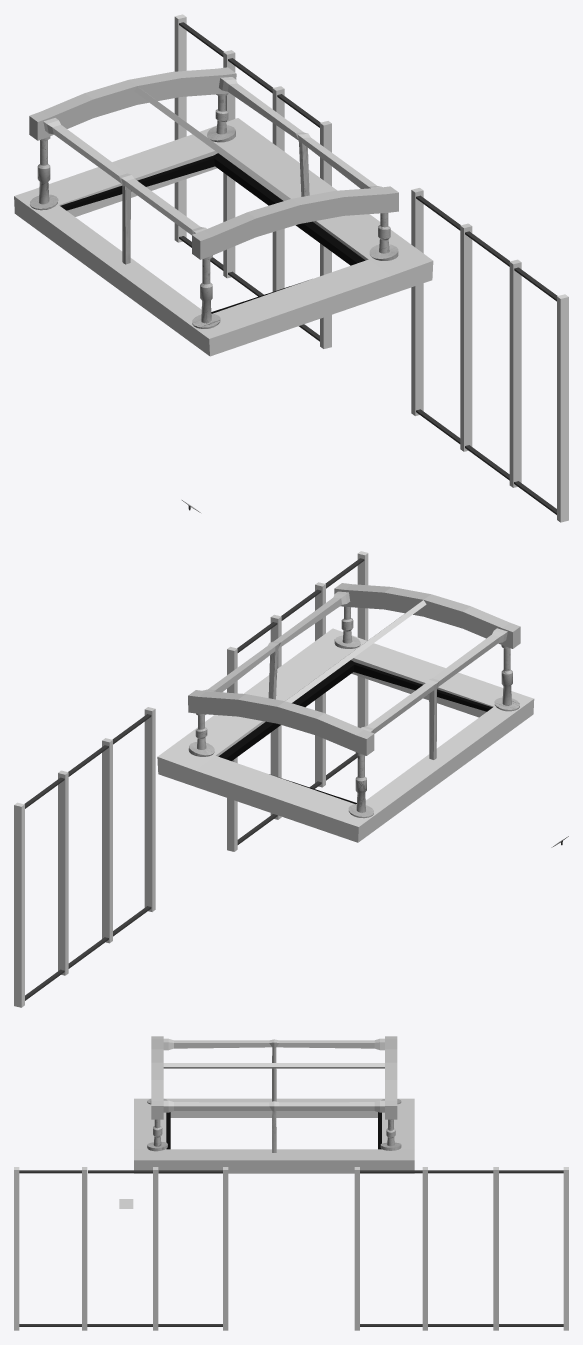
Rendered from windows.fbx.
3 views of the same model, one above another, from view 1: azimuth 30°, elevation 25°; view 2: azimuth 150°, elevation 25°; view 3: azimuth 270°, elevation 25° (orthographic). The views are drawn at different scales.
Visible parts, largest first — view 1: Cube.046, Cube.042, Cube.045, Cylinder.012, Cube.047, Cube.028, Cube.029, Cube.027, Cube.030, Cube.034, Cube.032, Cube.033 (+4 smaller); view 2: Cube.046, Cube.042, Cube.045, Cube.047, Cylinder.012, Cube.031, Cube.034, Cube.033, Cube.032, Cube.027, Cube.028, Cube.048 (+5 smaller); view 3: Cube.046, Cube.045, Cube.042, Cube.048, Cube.027, Cube.028, Cube.029, Cube.030, Cube.031, Cube.032, Cube.033, Cube.034 (+4 smaller).
Part boxes in pixels (x1,y1,x2,y2): Cube.046: (14, 118, 433, 356); Cube.042: (29, 67, 398, 259); Cube.045: (43, 77, 382, 264); Cylinder.012: (29, 93, 398, 328); Cube.047: (60, 153, 365, 313); Cube.028: (509, 259, 521, 487); Cube.029: (460, 223, 472, 451); Cube.027: (557, 294, 568, 522); Cube.030: (411, 188, 423, 415); Cube.034: (174, 14, 186, 242); Cube.032: (272, 86, 284, 291); Cube.033: (223, 50, 235, 278); Cube.046: (157, 628, 534, 842); Cube.042: (188, 583, 520, 755); Cube.045: (203, 591, 507, 759); Cube.047: (218, 660, 492, 804); Cylinder.012: (188, 606, 519, 818); Cube.031: (144, 707, 155, 911); Cube.034: (14, 802, 24, 1007); Cube.033: (58, 770, 68, 975); Cube.032: (102, 738, 112, 943); Cube.027: (357, 551, 368, 755); Cube.028: (315, 582, 325, 787); Cube.048: (285, 600, 426, 702); Cube.046: (134, 1098, 414, 1173); Cube.045: (163, 1038, 384, 1152); Cube.042: (151, 1036, 397, 1119); Cube.048: (163, 1063, 384, 1068); Cube.027: (14, 1167, 19, 1330); Cube.028: (82, 1167, 87, 1330); Cube.029: (153, 1167, 158, 1330); Cube.030: (223, 1167, 228, 1330); Cube.031: (354, 1167, 359, 1330); Cube.032: (422, 1167, 427, 1330); Cube.033: (493, 1167, 498, 1330); Cube.034: (563, 1167, 568, 1330).
Size of the model in its own units: 1336 by 1206 by 2931.
